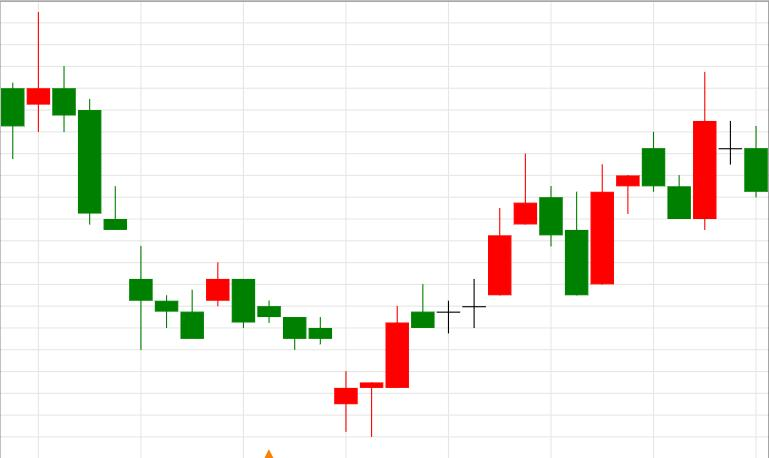shooting_star_fall: (334, 153, 537, 437)
